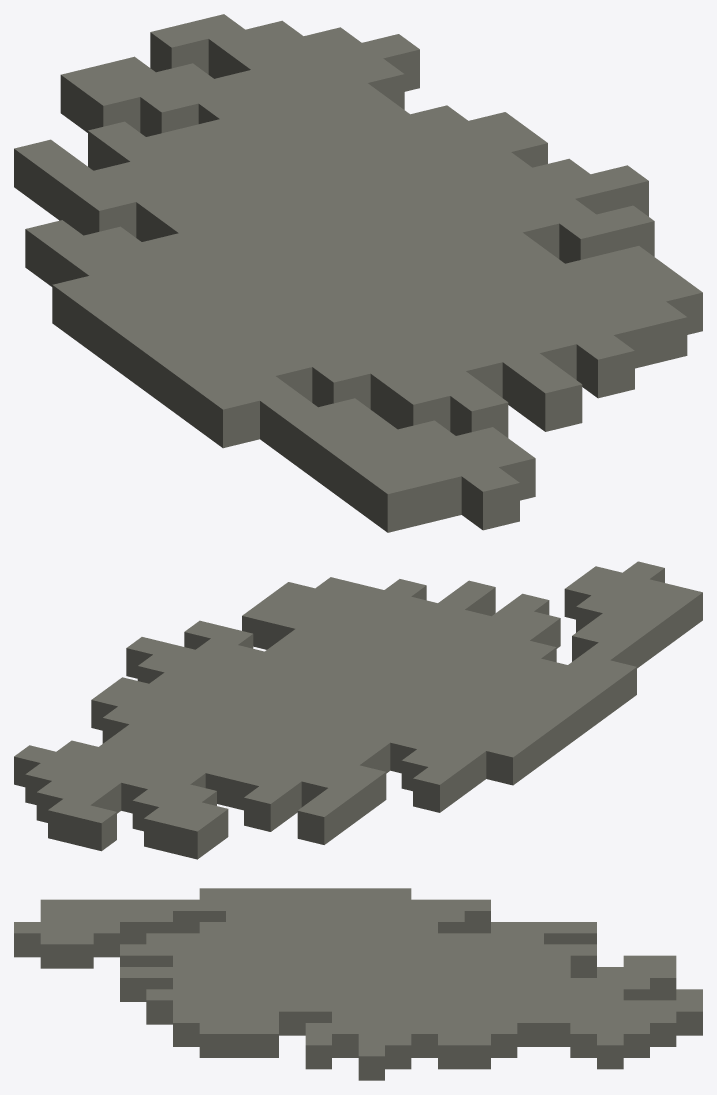
Rendered from Airplane-2.obj.
3 views of the same model, one above another, from view 1: azimuth 30°, elevation 25°; view 2: azimuth 150°, elevation 25°; view 3: azimuth 270°, elevation 25° (orthographic). The views are drawn at different scales.
Bounding box in the file's own units: 1.5 × 0.1 × 2.6.
Materials: 1 (1 with a texture image).
